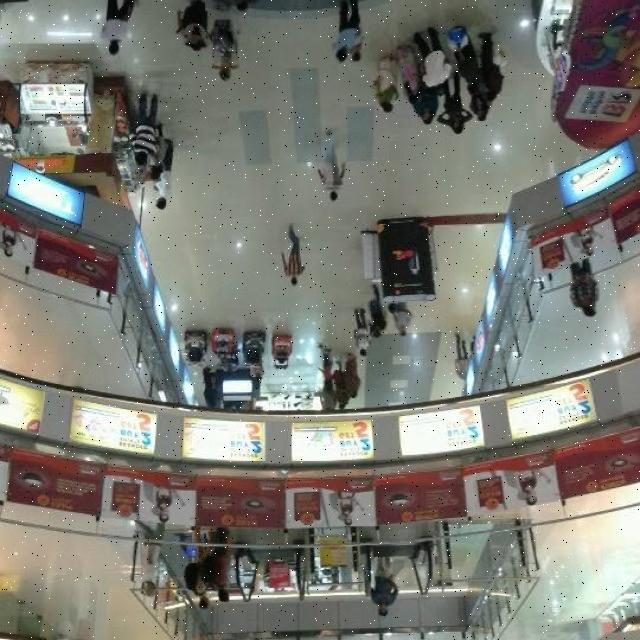humans: (314, 121, 352, 202), (130, 92, 166, 170), (138, 525, 170, 601), (102, 0, 143, 58), (419, 26, 450, 98), (437, 69, 470, 136), (174, 0, 212, 54), (452, 23, 481, 93), (370, 556, 400, 620), (278, 224, 307, 290), (373, 51, 401, 117), (480, 33, 505, 103), (332, 0, 358, 65), (570, 260, 598, 320), (189, 532, 210, 611), (212, 529, 232, 602), (147, 128, 175, 180), (154, 148, 176, 212), (402, 37, 418, 107), (368, 284, 389, 337), (388, 300, 415, 339), (352, 306, 371, 360), (215, 47, 240, 86), (315, 341, 336, 386), (413, 91, 440, 124), (333, 358, 350, 410), (344, 351, 362, 399), (471, 84, 491, 124), (217, 350, 244, 376), (248, 358, 269, 384), (348, 39, 367, 64)
